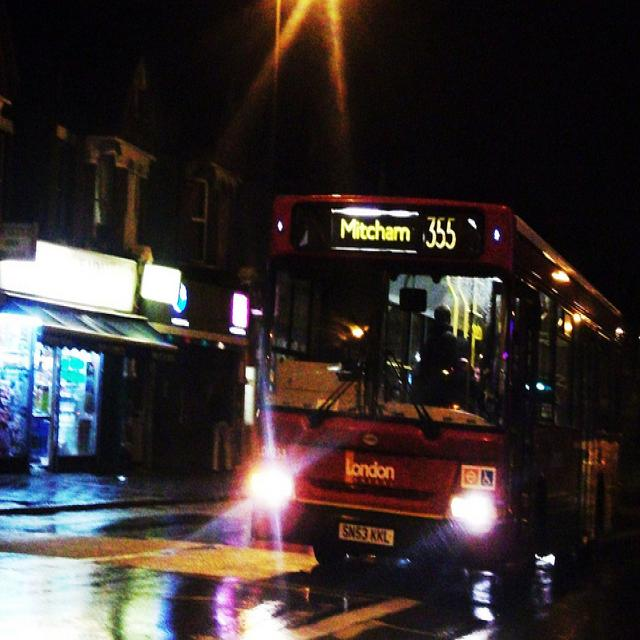Bus: (251, 168, 640, 610)
People: (406, 300, 458, 419), (196, 357, 242, 469)
